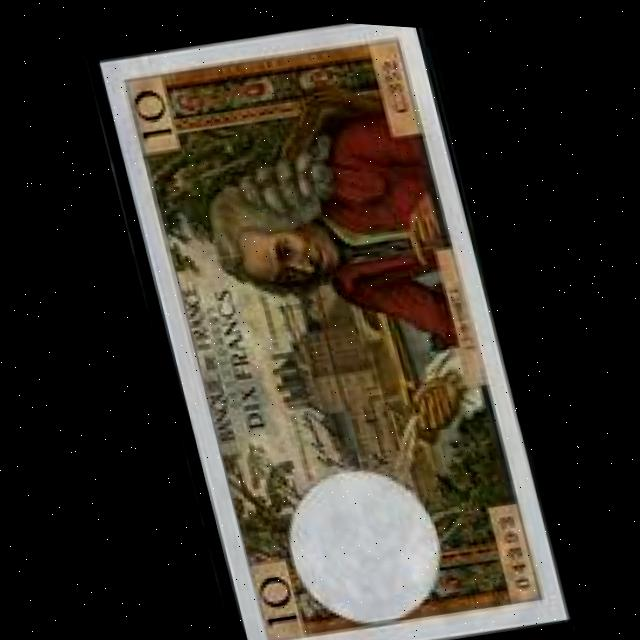banknote: (93, 5, 568, 640), (123, 69, 178, 150), (245, 557, 300, 632)
